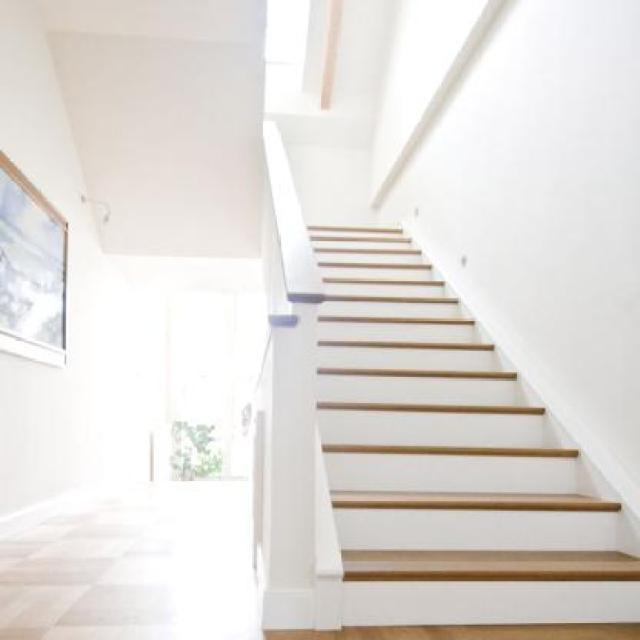stair: (243, 142, 634, 636)
